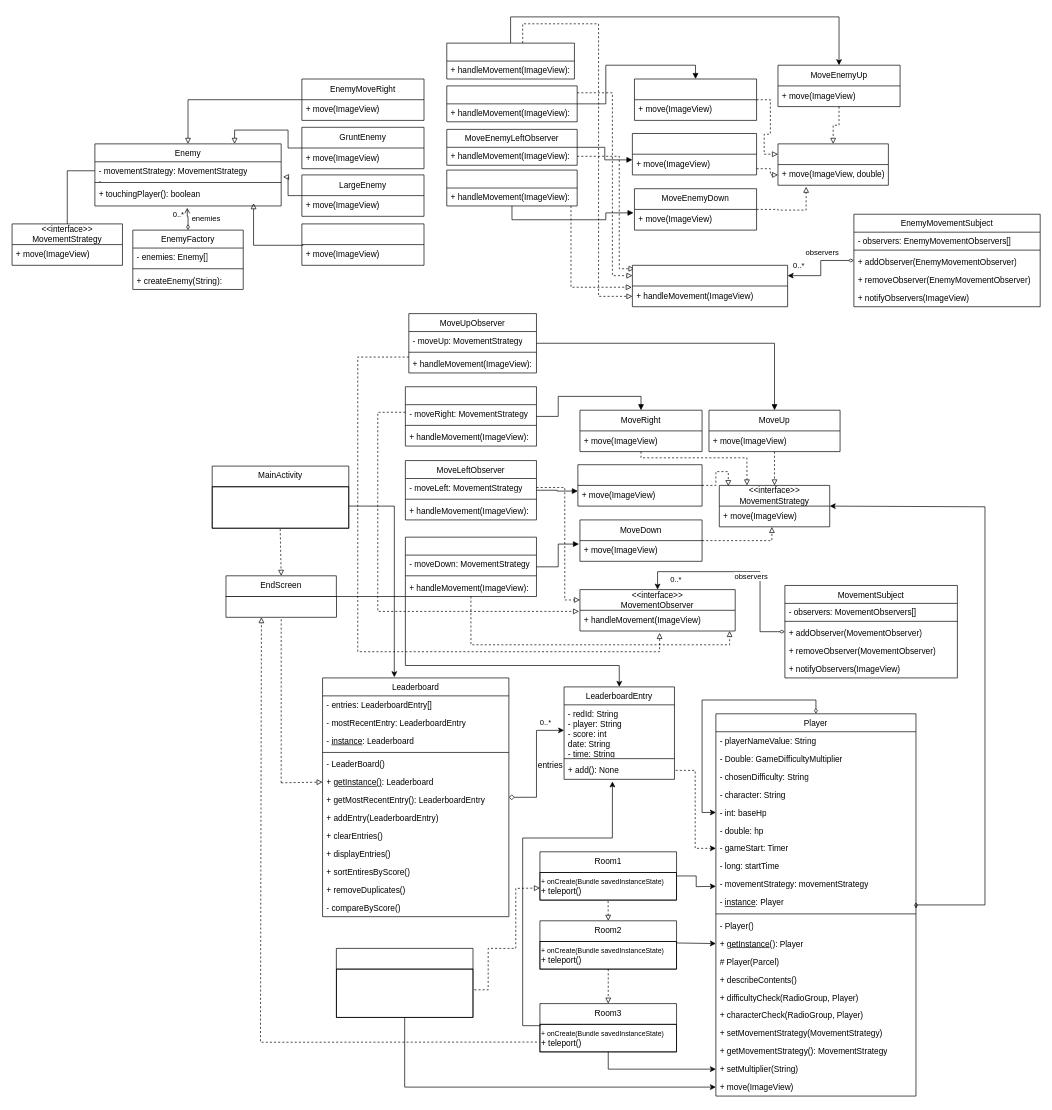
This 1052x1110 diagram has some shape labels left out. Each missing label, with the box of its shape:
+ onCreate() + nameCheck() + difficultyCheck() + characterCheck(): (336, 968, 473, 1017)
+ onCreate() + startButton() + quitButton(): (211, 486, 349, 528)
+ onCreate(savedInstanceState: Bundle): void: (225, 596, 336, 617)
<<interface>> EnemyMovementObserver: (632, 265, 788, 307)
<<interface>> EnemyMovementStrategy: (777, 143, 888, 185)
MoveDownObserver: (405, 536, 536, 597)
MoveEnemyDownObserver: (446, 169, 577, 206)
MoveEnemyLeft: (632, 133, 757, 175)
MoveEnemyRight: (634, 78, 757, 120)
MoveEnemyRightObserver: (446, 85, 577, 122)
MoveEnemyUpObserver: (446, 42, 574, 79)
MoveLeft: (577, 464, 702, 506)
MoverRightObserver: (405, 386, 536, 446)
SmallEnemy: (301, 223, 424, 265)
StartGame: (336, 948, 473, 1017)
